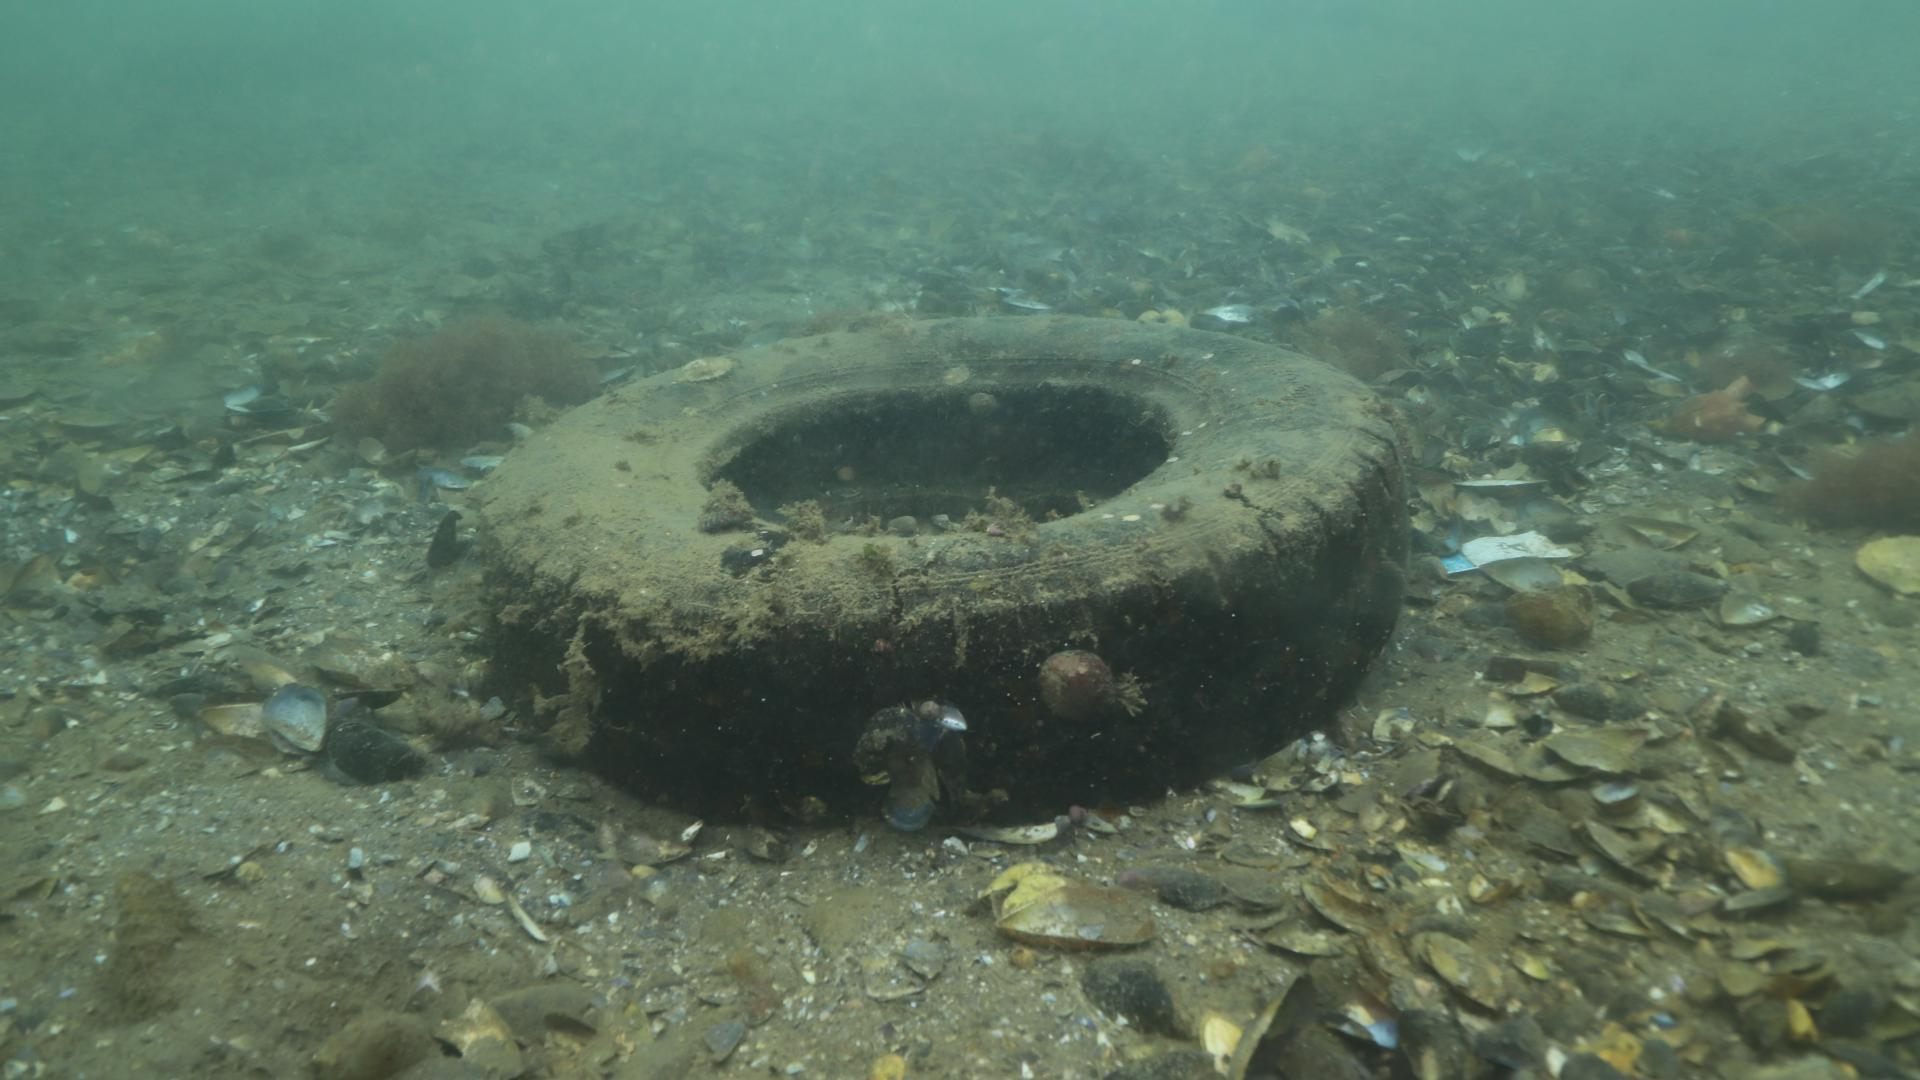tire: (465, 316, 1400, 818)
